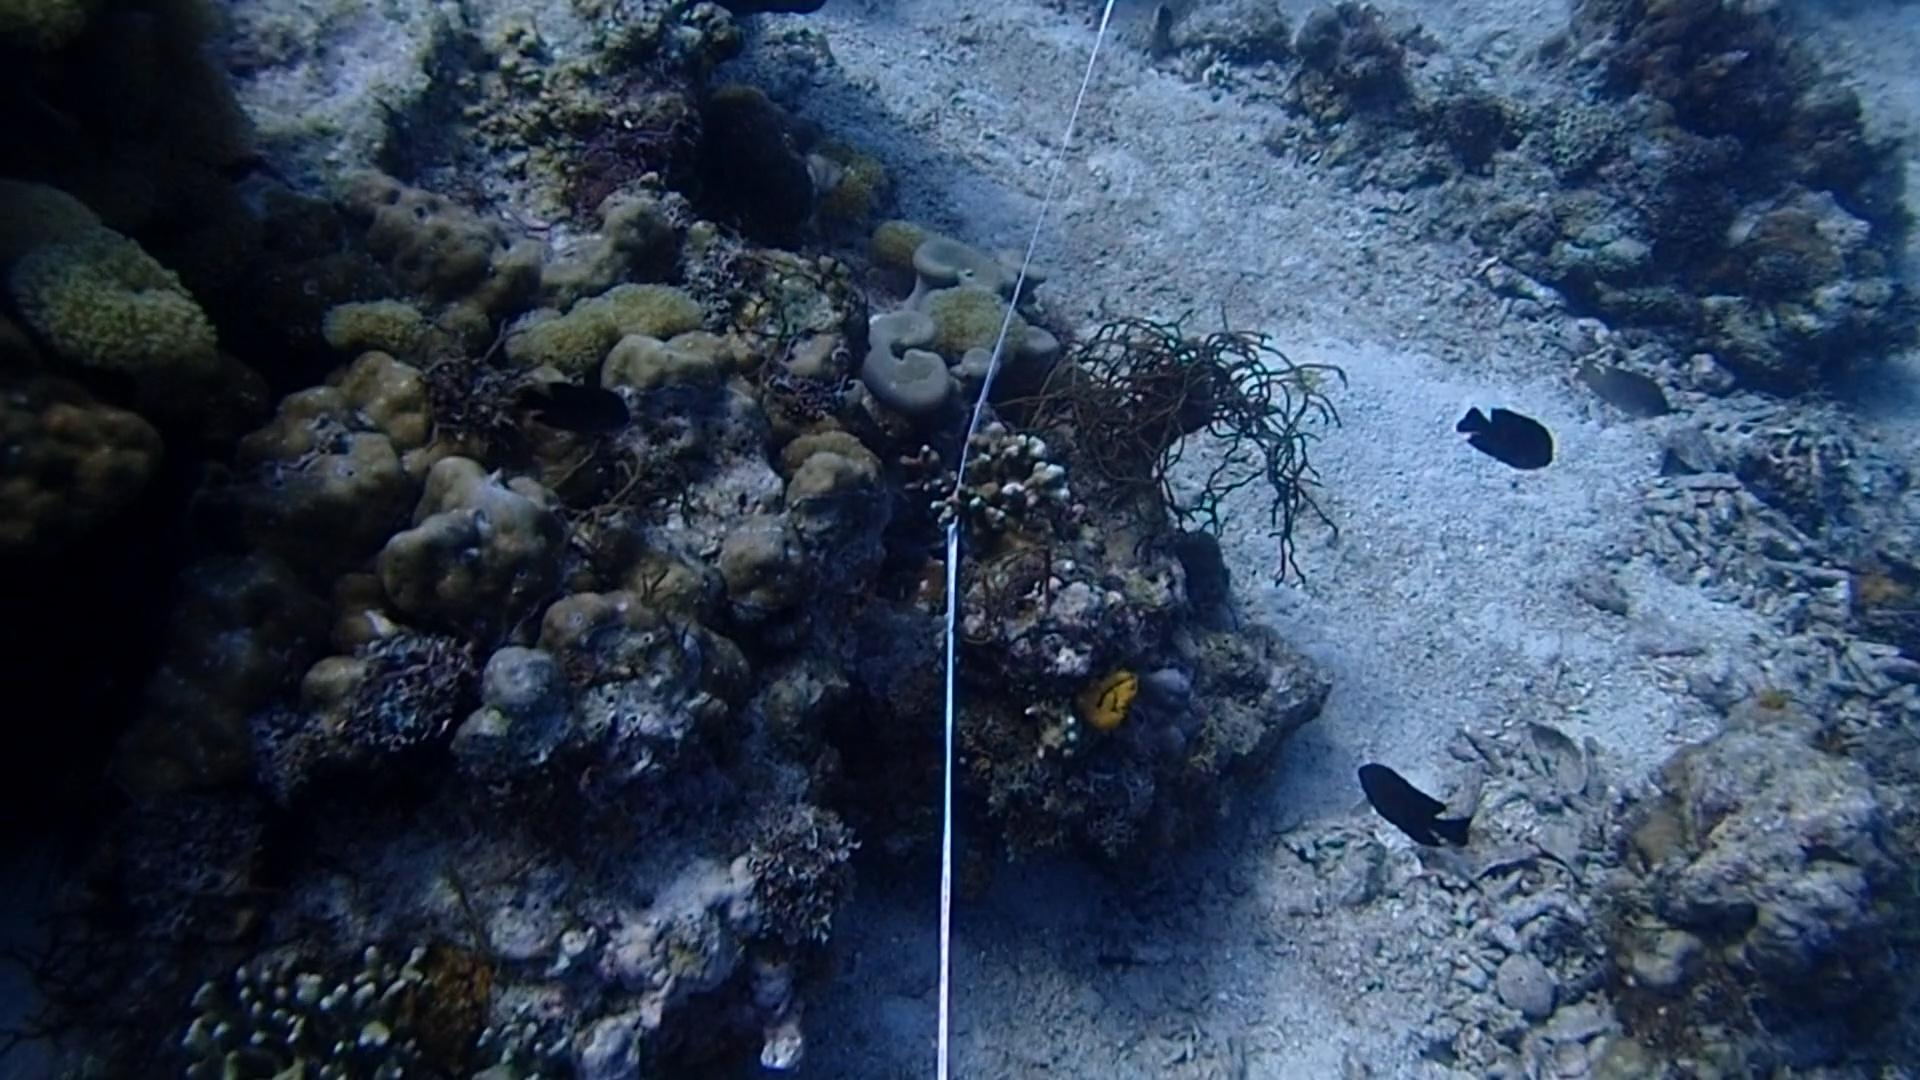Dark Fish: (1346, 752, 1487, 855), (1445, 396, 1572, 485)
Light Fish: (1561, 347, 1679, 431)
